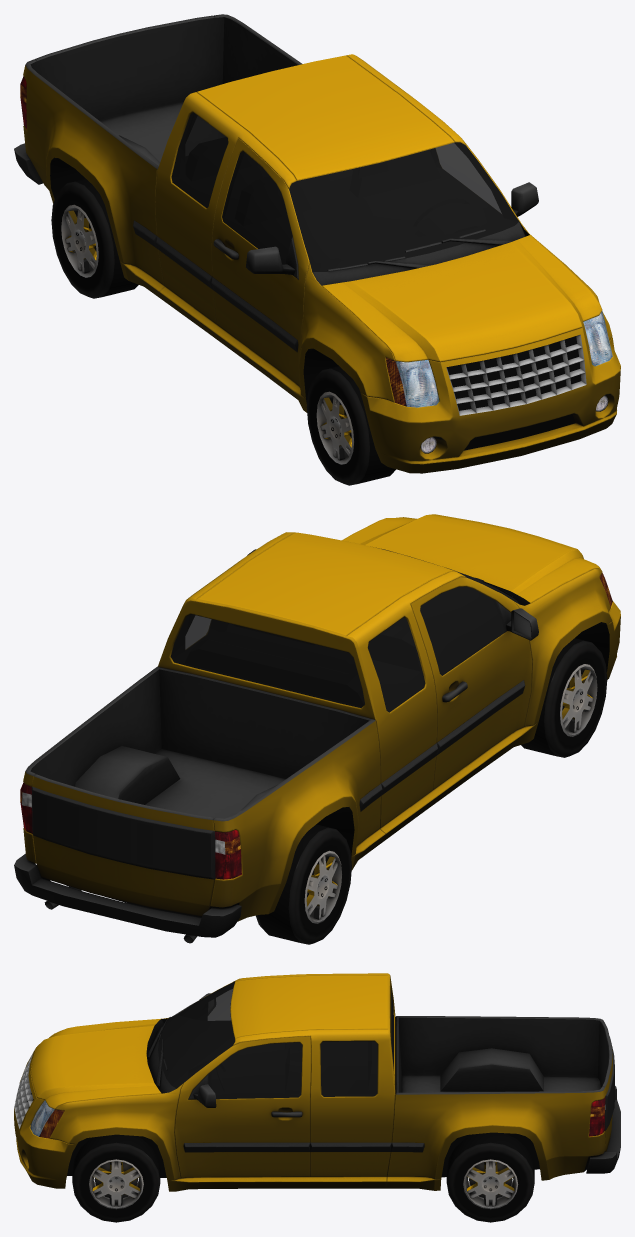
The model's file is Pickup.FBX.
The picture shows the model from 3 angles, top to bottom: view 1: azimuth 30°, elevation 25°; view 2: azimuth 150°, elevation 25°; view 3: azimuth 270°, elevation 25°; orthographic projection. The views are drawn at different scales.
Parts seen in each view (by area): view 1: Pickup Body, Wheel_E002, Wheel_E003; view 2: Pickup Body, Wheel_E003, Wheel_E002; view 3: Pickup Body, Wheel_E001, Wheel_E.
Boxes of the visible parts, x1,y1,x2,y2 form: Pickup Body: (14, 14, 620, 473); Wheel_E002: (306, 366, 395, 485); Wheel_E003: (51, 178, 138, 298); Pickup Body: (14, 514, 620, 943); Wheel_E003: (256, 824, 351, 944); Wheel_E002: (521, 638, 607, 757); Pickup Body: (14, 973, 620, 1191); Wheel_E001: (446, 1132, 534, 1222); Wheel_E: (72, 1134, 160, 1222).
Size of the model in its own units: 2327 by 1910 by 5829.
4 materials, 3 textured.
